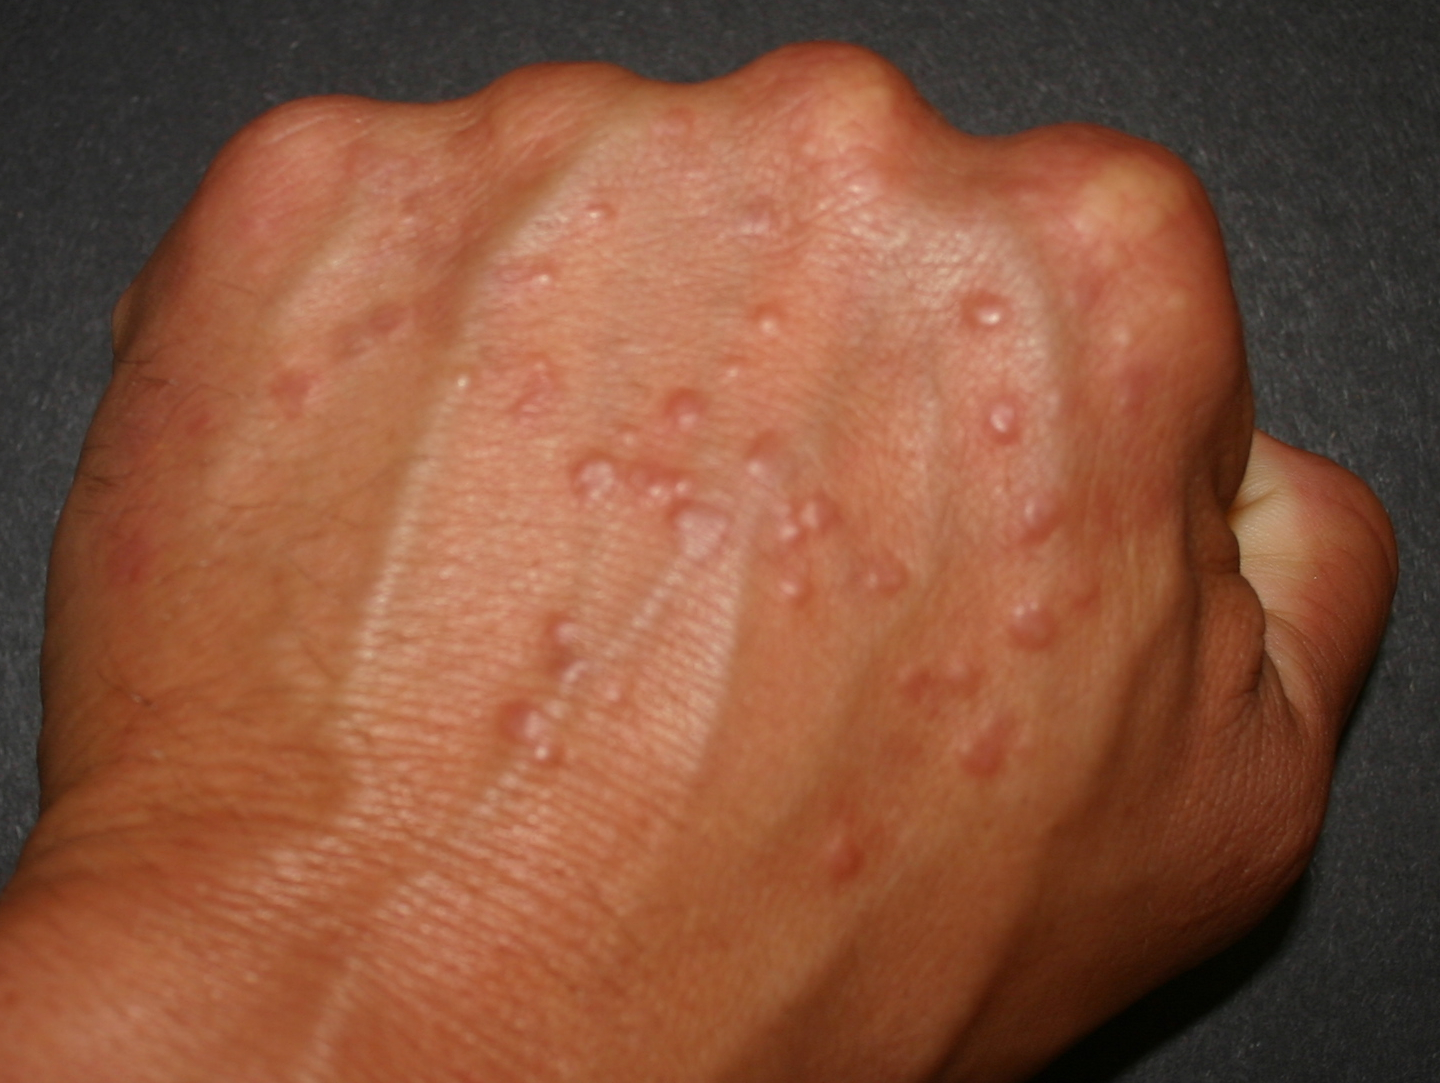Diseased: (279, 163, 1156, 916)
